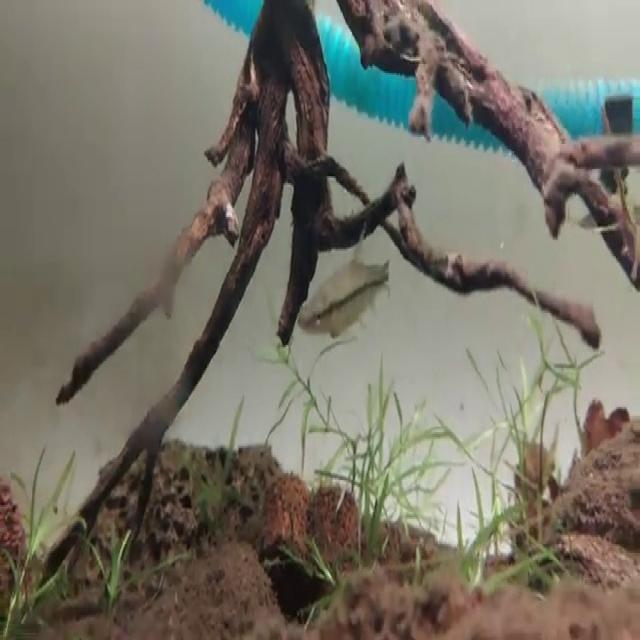Cakil Baligi: (296, 248, 390, 343)
